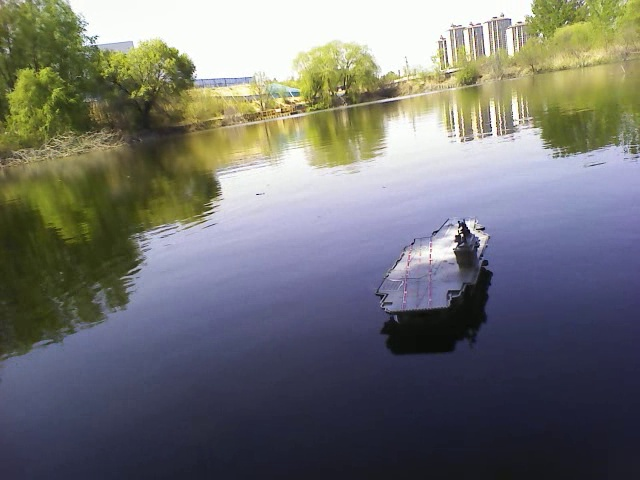aircraft_carrier: (374, 214, 492, 320)
